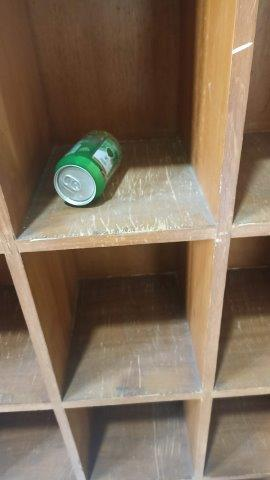kaleng: (51, 131, 124, 207)
